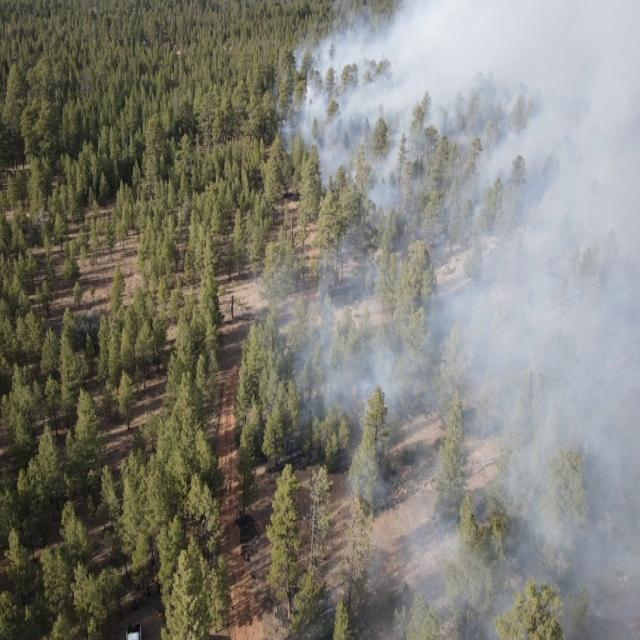smoke: (268, 0, 640, 275), (273, 280, 640, 508), (333, 508, 640, 638)
